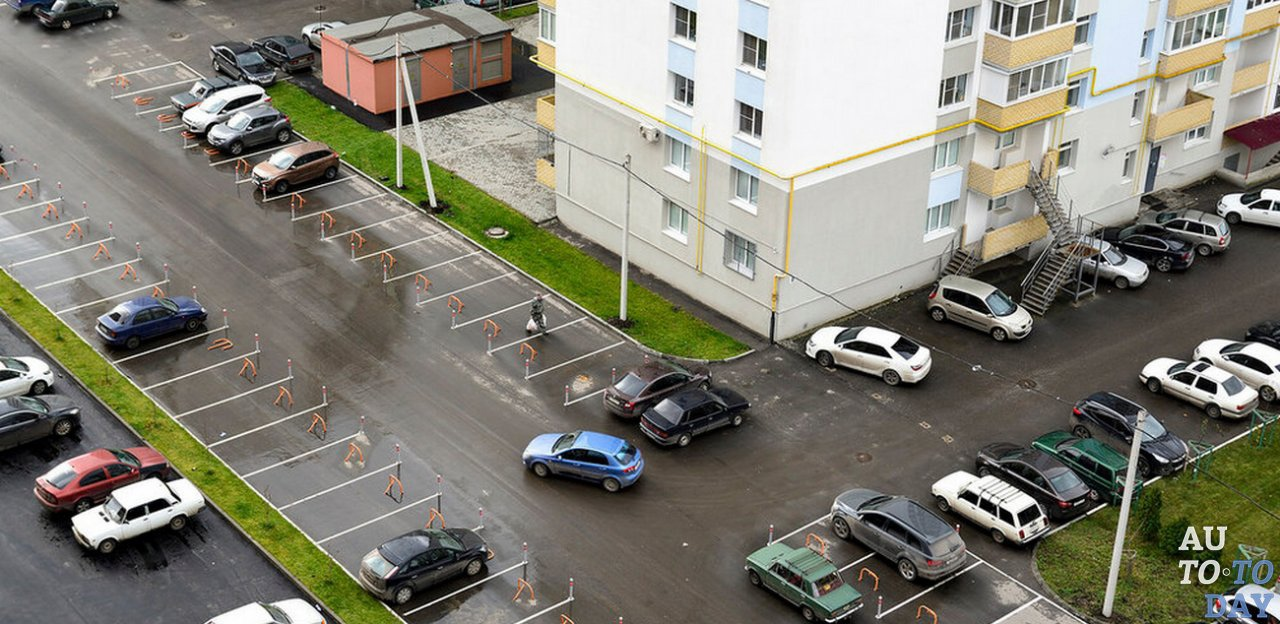Car: (829, 488, 967, 581), (1069, 390, 1191, 477), (71, 477, 205, 554), (358, 528, 490, 606), (744, 543, 863, 624), (34, 446, 173, 514), (930, 470, 1052, 546), (975, 442, 1093, 520), (1029, 427, 1145, 504), (804, 325, 933, 386), (521, 430, 645, 493), (1139, 357, 1260, 420), (926, 274, 1034, 342), (639, 386, 753, 448), (603, 358, 712, 420), (95, 296, 208, 349), (1191, 337, 1280, 404), (1088, 225, 1195, 272), (0, 394, 81, 452), (181, 84, 273, 135), (251, 141, 339, 193), (1137, 209, 1232, 256), (206, 104, 293, 155), (203, 597, 331, 624), (209, 41, 277, 87), (1213, 582, 1280, 624), (1215, 188, 1280, 229), (170, 76, 242, 112), (251, 35, 316, 74), (36, 0, 120, 30), (1099, 241, 1150, 289), (0, 356, 56, 398), (301, 21, 347, 50), (1244, 318, 1280, 349), (4, 0, 53, 18), (413, 0, 463, 9), (464, 0, 499, 12), (1275, 575, 1280, 596), (0, 144, 5, 162), (157, 0, 184, 3)
